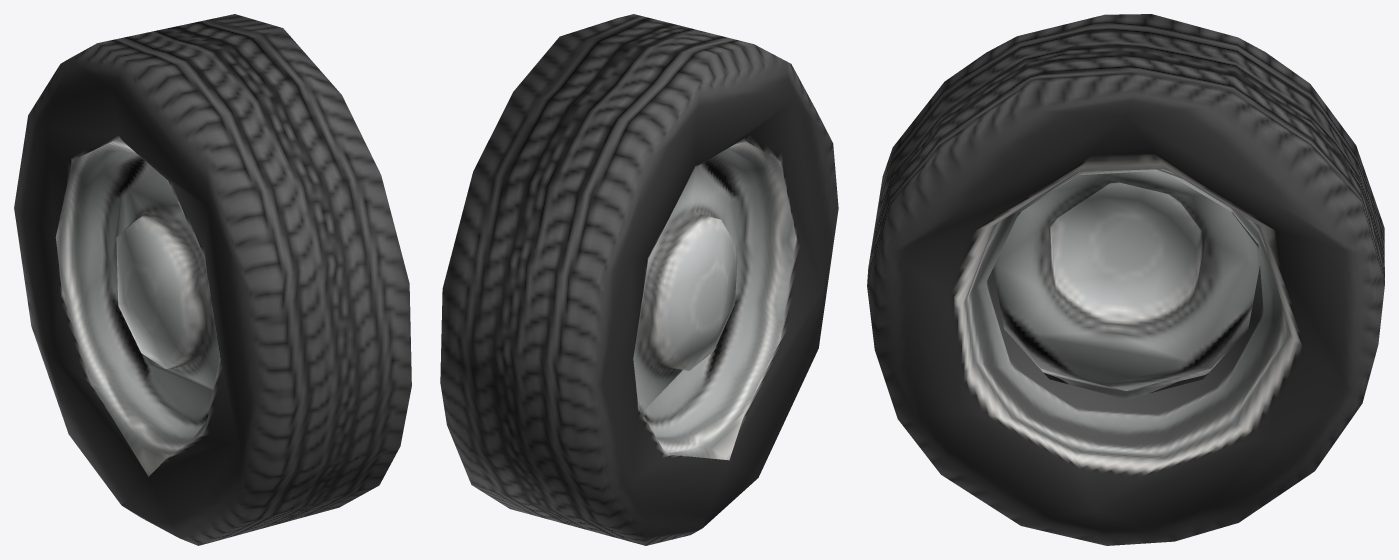
Rendered from wheel_d1.obj.
3 renders of one model, left to right at view 1: azimuth 30°, elevation 25°; view 2: azimuth 150°, elevation 25°; view 3: azimuth 270°, elevation 25°, orthographic.
Parts seen in each view (by area): view 1: Body.001; view 2: Body.001; view 3: Body.001.
Part boxes in pixels (bbox=[...]): Body.001: bbox=[14, 14, 411, 545]; Body.001: bbox=[440, 14, 838, 545]; Body.001: bbox=[867, 14, 1384, 545].
Bounding box in the file's own units: 24.71 × 69.51 × 69.76.
1 material, 1 textured.
